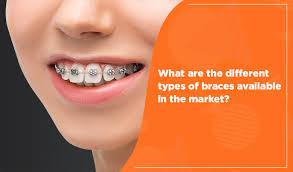Braces: (53, 62, 143, 78)
